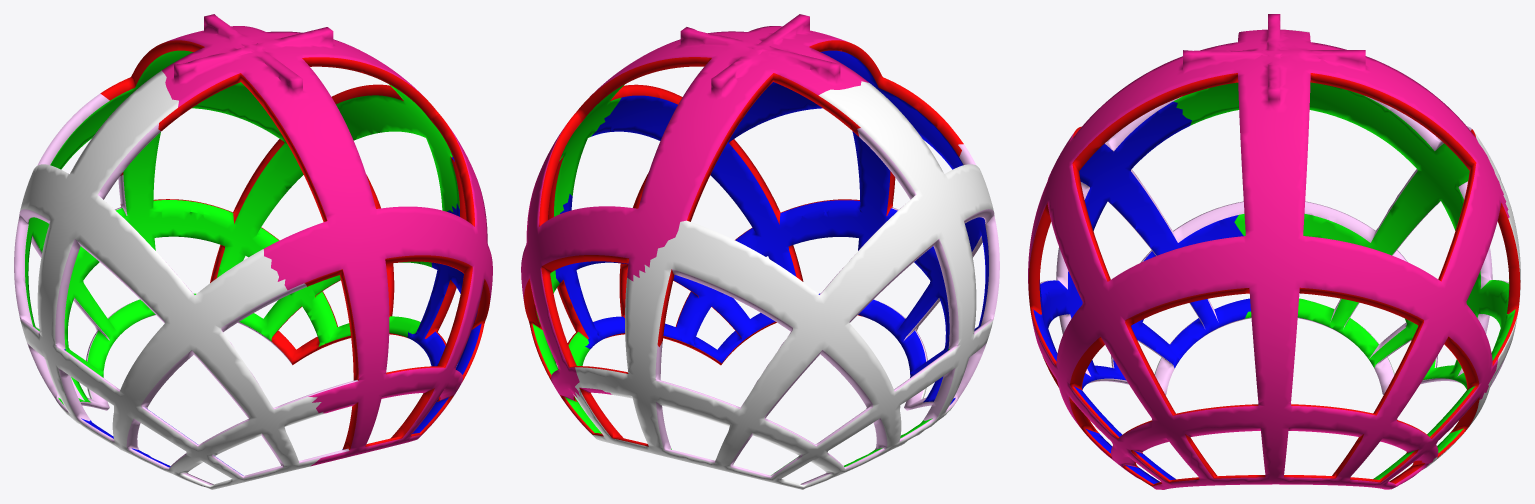
File: model_27687_segmented.obj
3 views of the same model, side by side, from view 1: azimuth 30°, elevation 25°; view 2: azimuth 150°, elevation 25°; view 3: azimuth 270°, elevation 25° (orthographic). The views are drawn at different scales.
Size of the model in its own units: 80.98 by 70.85 by 80.99.
